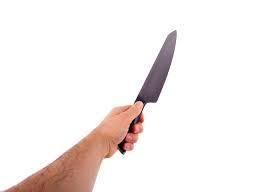Knife: (0, 102, 144, 192), (134, 29, 178, 108), (99, 100, 144, 157)
